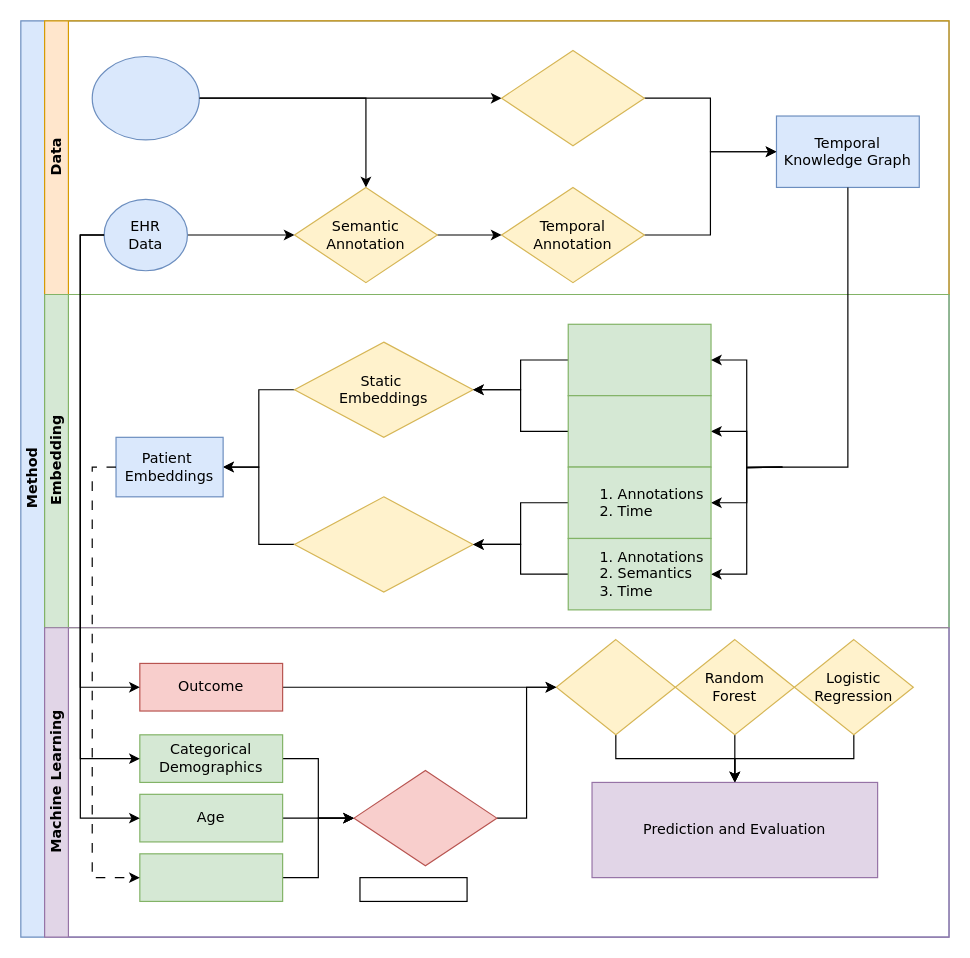
The diagram is 970 pixels wide and 958 high, and some of its shapes have lost their labels. The centre of each missing label's shape, as x and y in pixels:
"349 Features" belongs at [413,888].
"Annotations" belongs at [639,359].
"Annotations Semantics" belongs at [639,430].
"Biomedical Ontology" belongs at [145,97].
"Cocatenation" belongs at [425,817].
"Embeddings" belongs at [211,877].
"Semantic Enrichment" belongs at [572,97].
"Temporal Embeddings" belongs at [383,544].
"XGBoost" belongs at [615,686].
